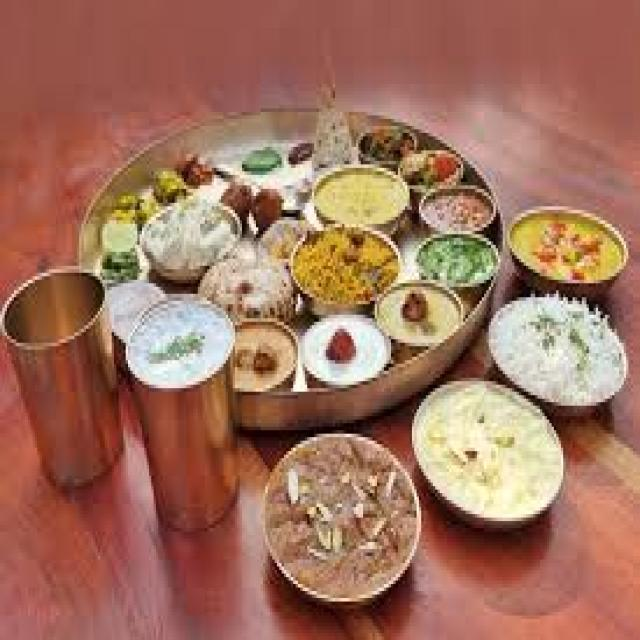dal: (276, 435, 407, 602), (424, 382, 555, 516), (505, 211, 630, 290), (291, 223, 398, 310), (310, 156, 408, 229), (416, 188, 495, 234)
rice: (488, 286, 628, 414), (123, 293, 233, 397)
roti: (199, 238, 296, 328)
sambar-rasam: (505, 206, 633, 295), (7, 258, 106, 351), (417, 186, 493, 236)
sweet: (373, 280, 475, 355), (302, 312, 391, 396), (227, 321, 301, 398)
veg-fry: (269, 433, 411, 604)
